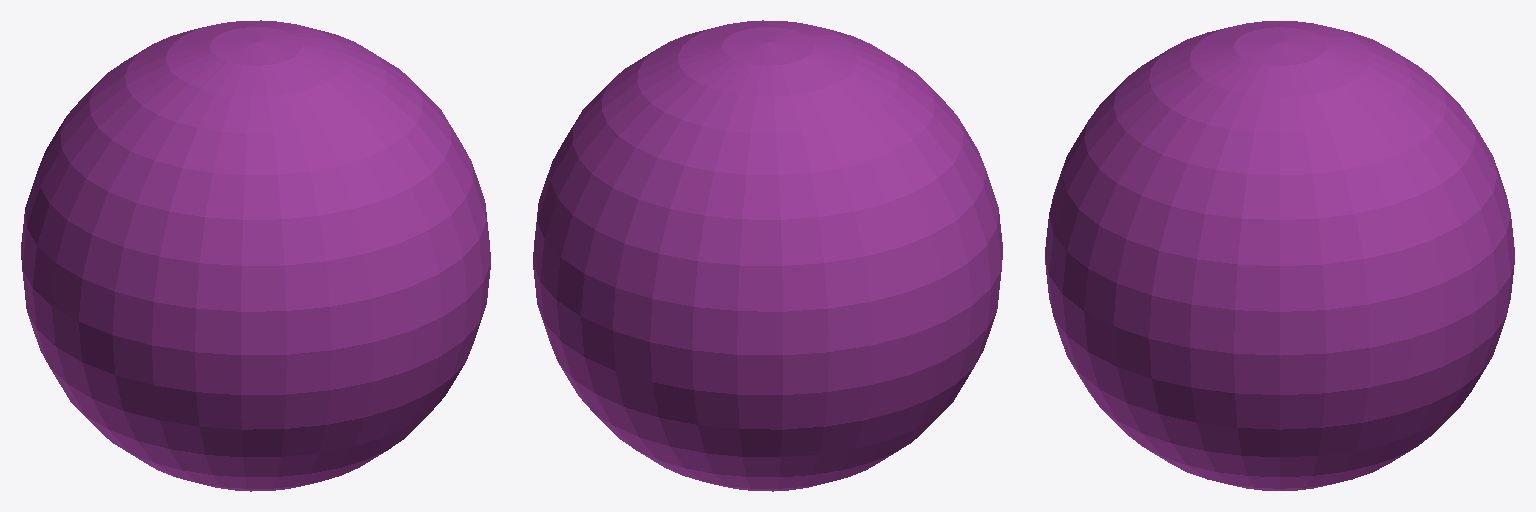
robot.urdf — ball:
<?xml version="1.0" ?>
<robot name="ball">
  <link name="ball__link">
    <inertial>
      <mass value="0.02"/>
      <origin rpy="0 0 0" xyz="0 0 0"/>
      <inertia ixx="3.96e-09" ixy="0" ixz="0" iyy="3.96e-09" iyz="0" izz="3.96e-09"/>
    </inertial>
    <collision name="ball__collision">
      <origin rpy="0 0 0" xyz="0 0 0"/>
      <geometry>
        <sphere radius="0.0375"/>
      </geometry>
    </collision>
    <visual name="ball__visual">
      <origin rpy="0 0 0" xyz="0 0 0"/>
      <geometry>
        <sphere radius="0.0375"/>
      </geometry>
      <material name="Purple">
        <color rgba="0.65 0.3 0.65 1.0"/>
      </material>
    </visual>
  </link>
</robot>

--- Facts derived from the render (not from the file) ---
The picture shows the robot from 3 angles, left to right: view 1: azimuth 30°, elevation 25°; view 2: azimuth 150°, elevation 25°; view 3: azimuth 270°, elevation 25°; orthographic projection.
Robot: ball — 1 links, 0 joints (none); root link ball__link; default pose: all joints at 0.
Visible links, largest first — view 1: ball__link; view 2: ball__link; view 3: ball__link.
Link boxes in pixels (x1=…): ball__link: x1=21, y1=20, x2=490, y2=491; ball__link: x1=533, y1=20, x2=1002, y2=491; ball__link: x1=1045, y1=21, x2=1514, y2=490.
Bounding box of the posed robot: 0.075 × 0.075 × 0.075 m (x, y, z).
Geometry: primitives only (box / cylinder / sphere), no mesh files.